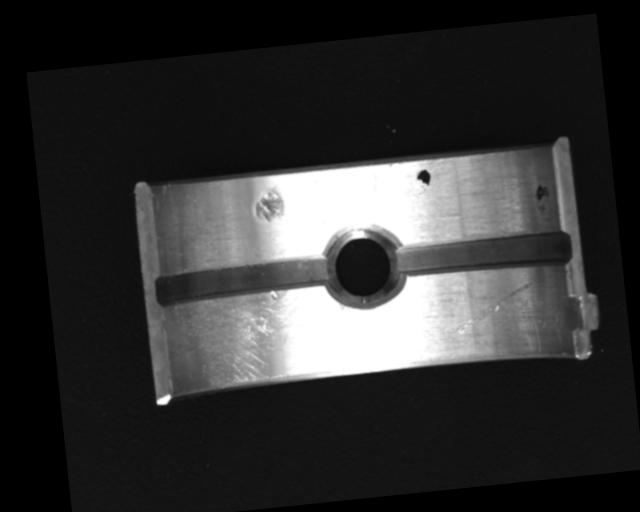blot: (533, 182, 552, 215), (415, 168, 431, 191)
bruise: (251, 182, 285, 224)
gap: (392, 224, 574, 281), (153, 253, 338, 309)
hole: (320, 219, 410, 314)
nick: (451, 281, 537, 335)
scratch: (172, 285, 338, 393)
